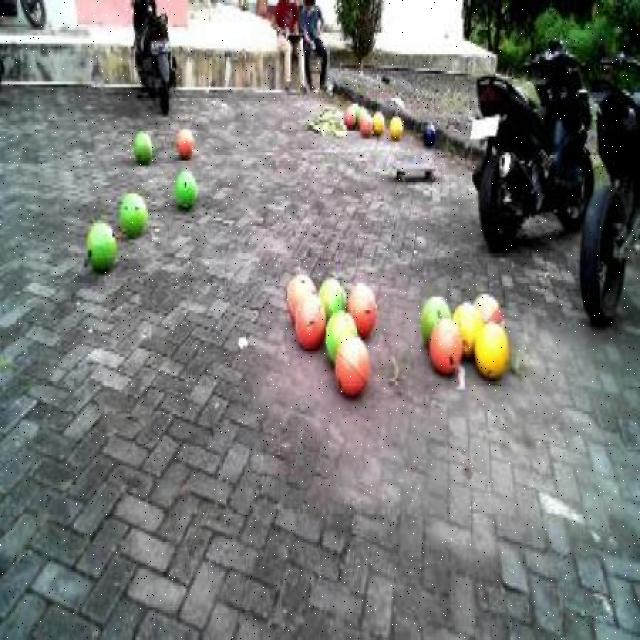buoy: (471, 314, 510, 386), (424, 314, 462, 380), (332, 333, 369, 399), (82, 214, 119, 274), (322, 306, 358, 361), (450, 296, 483, 355), (293, 288, 326, 346), (344, 277, 376, 336), (314, 270, 350, 322), (282, 262, 315, 318), (419, 286, 451, 343), (118, 188, 148, 240), (471, 286, 505, 327), (174, 166, 199, 212), (175, 121, 195, 156), (134, 127, 152, 162)
